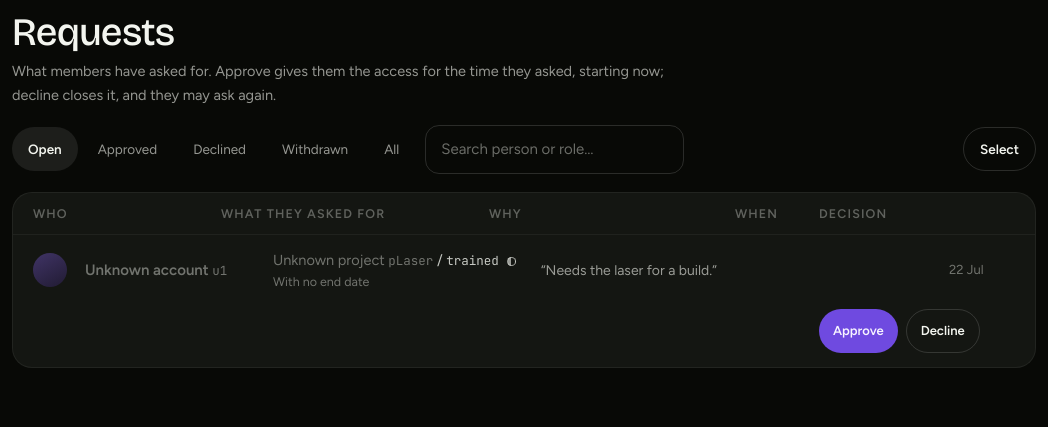
it: a decided request names its person and its next step › approving after another stop uses that stop's words
Click the button "Approve" at (858, 331), box x1=819 y1=309 x2=898 y2=353
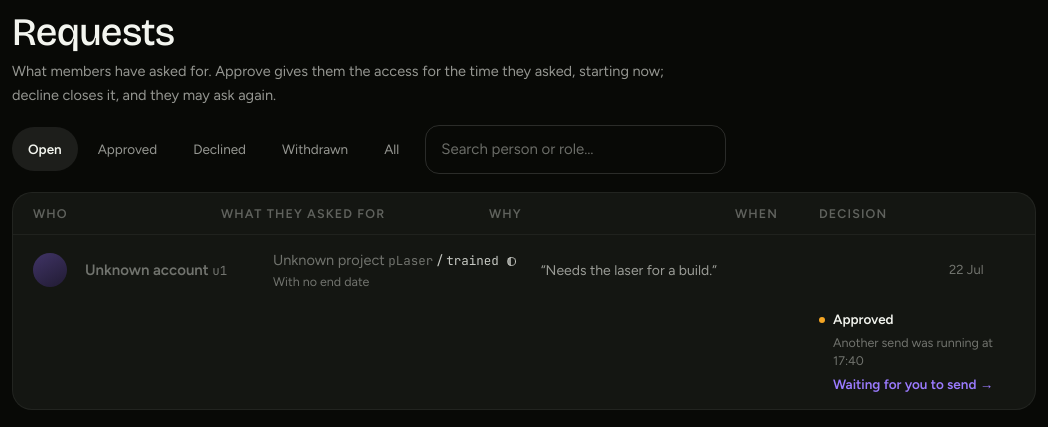
Check: the message reads "Approved Another send was running at 17:40 Waiting for you to send →", box x1=833 y1=335 x2=993 y2=368
